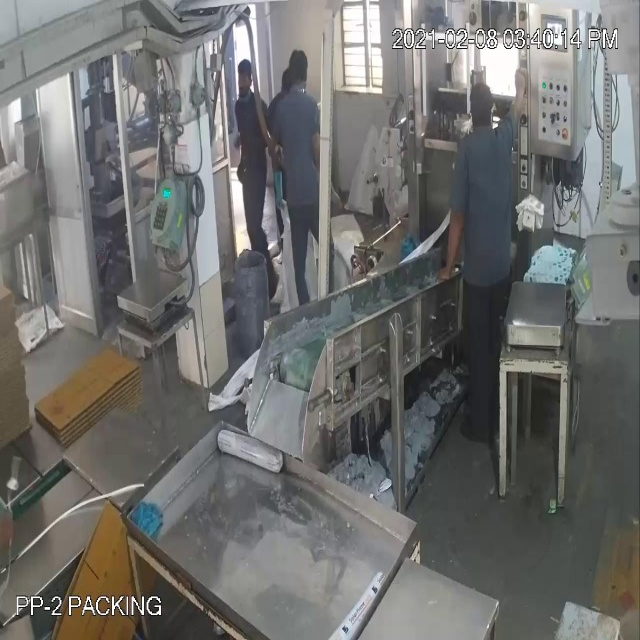Guantes: (266, 144, 292, 216)
Sin_guantes: (436, 204, 467, 289), (508, 55, 526, 142)
